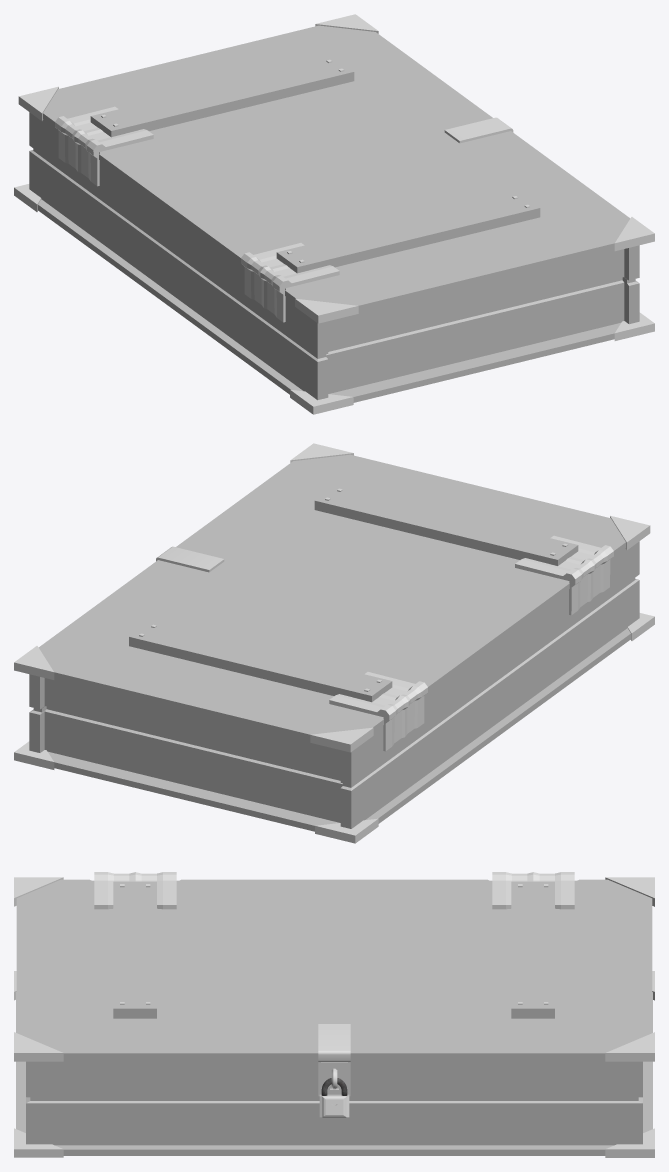
Rendered from WeaponCrateDone.fbx.
The picture shows the model from 3 angles, top to bottom: view 1: azimuth 30°, elevation 25°; view 2: azimuth 150°, elevation 25°; view 3: azimuth 270°, elevation 25°; orthographic projection. The views are drawn at different scales.
Visible parts, largest first — view 1: Plane.001, Cube, Cube.001, Plane, Cylinder, Cube.003, Cylinder.003, Cube.004, Cube.005; view 2: Plane.001, Cube, Cube.001, Plane, Cylinder, Cube.003, Cylinder.003, Cube.004, Cube.005; view 3: Plane.001, Cube, Cube.001, Plane, Cylinder, Cube.003, Cube.004, Cube.005, _Lock, Cube.006.
Boxes of the visible parts, box(x1,y1,x2,y2) form: Plane.001: box(43, 25, 630, 310); Cube: box(29, 112, 639, 400); Cube.001: box(90, 57, 540, 273); Plane: box(38, 199, 620, 402); Cylinder: box(55, 106, 339, 294); Cube.003: box(18, 14, 654, 323); Cylinder.003: box(58, 130, 285, 322); Cube.004: box(14, 184, 654, 414); Cube.005: box(444, 117, 513, 143); Plane.001: box(38, 454, 625, 739); Cube: box(29, 541, 639, 828); Cube.001: box(129, 485, 578, 702); Plane: box(48, 628, 630, 831); Cylinder: box(329, 535, 613, 723); Cube.003: box(14, 443, 650, 752); Cylinder.003: box(383, 559, 610, 751); Cube.004: box(14, 613, 654, 843); Cube.005: box(156, 546, 224, 572); Plane.001: box(16, 879, 652, 1059); Cube: box(26, 1059, 642, 1145); Cube.001: box(113, 881, 554, 1018); Plane: box(16, 992, 652, 1155); Cylinder: box(94, 872, 574, 909); Cube.003: box(14, 877, 654, 1061); Cube.004: box(14, 971, 654, 1157); Cube.005: box(318, 1024, 350, 1096); _Lock: box(319, 1078, 349, 1117); Cube.006: box(321, 1062, 347, 1094).
Bounding box in the file's own units: 221 × 63.66 × 322.
